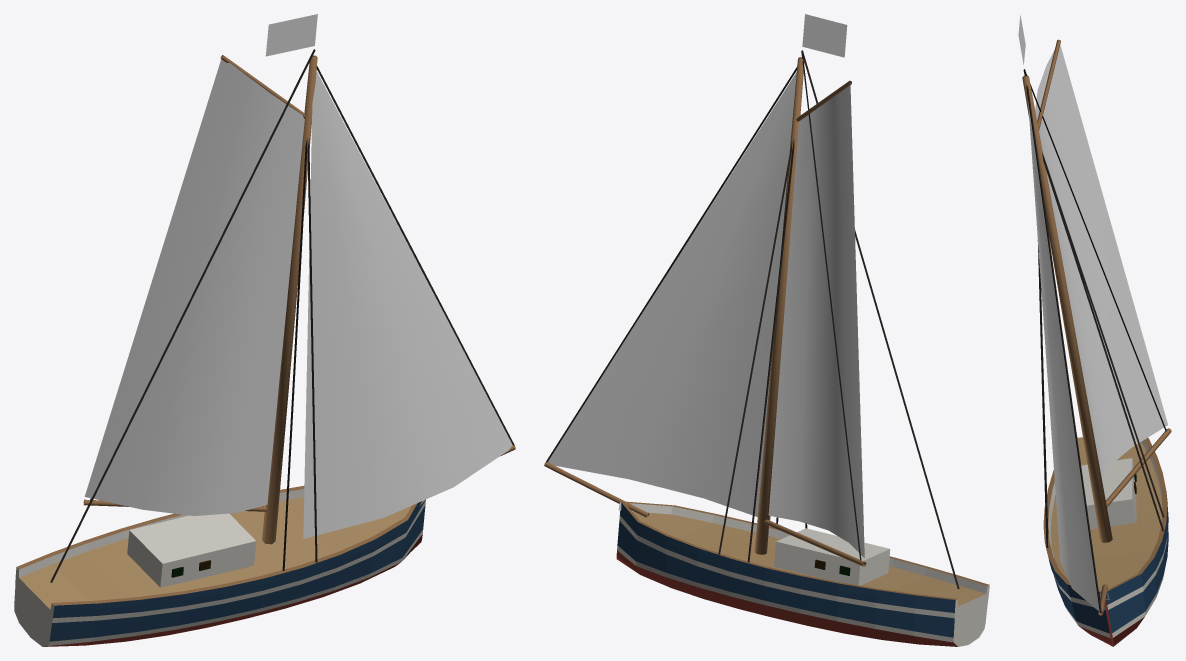
The model's file is hull_sloop_small_sailing.glb.
3 views of the same model, side by side, from view 1: azimuth 30°, elevation 25°; view 2: azimuth 150°, elevation 25°; view 3: azimuth 270°, elevation 25° (orthographic). The views are drawn at different scales.
Parts seen in each view (by area): view 1: hull_sloop_small_sailing_sail_main, hull_sloop_small_sailing_sail_jib, hull_sloop_small_sailing_hull, hull_sloop_small_sailing_deck, hull_sloop_small_sailing_mast, hull_sloop_small_sailing_rigging, hull_sloop_small_sailing_flag; view 2: hull_sloop_small_sailing_sail_jib, hull_sloop_small_sailing_sail_main, hull_sloop_small_sailing_hull, hull_sloop_small_sailing_rigging, hull_sloop_small_sailing_mast, hull_sloop_small_sailing_deck, hull_sloop_small_sailing_flag, hull_sloop_small_sailing_boom; view 3: hull_sloop_small_sailing_sail_main, hull_sloop_small_sailing_hull, hull_sloop_small_sailing_sail_jib, hull_sloop_small_sailing_mast, hull_sloop_small_sailing_rigging, hull_sloop_small_sailing_deck, hull_sloop_small_sailing_boom.
Boxes of the visible parts, left/top/right/bottom form: hull_sloop_small_sailing_sail_main: left=84, top=57, right=304, bottom=515; hull_sloop_small_sailing_sail_jib: left=303, top=71, right=512, bottom=538; hull_sloop_small_sailing_hull: left=14, top=486, right=425, bottom=646; hull_sloop_small_sailing_deck: left=127, top=513, right=256, bottom=587; hull_sloop_small_sailing_mast: left=220, top=55, right=515, bottom=544; hull_sloop_small_sailing_rigging: left=50, top=49, right=514, bottom=582; hull_sloop_small_sailing_flag: left=265, top=14, right=317, bottom=56; hull_sloop_small_sailing_sail_jib: left=548, top=72, right=796, bottom=520; hull_sloop_small_sailing_sail_main: left=768, top=83, right=864, bottom=557; hull_sloop_small_sailing_hull: left=616, top=501, right=989, bottom=646; hull_sloop_small_sailing_rigging: left=545, top=50, right=959, bottom=588; hull_sloop_small_sailing_mast: left=544, top=57, right=851, bottom=554; hull_sloop_small_sailing_deck: left=774, top=528, right=890, bottom=585; hull_sloop_small_sailing_flag: left=802, top=14, right=847, bottom=57; hull_sloop_small_sailing_boom: left=764, top=519, right=866, bottom=566; hull_sloop_small_sailing_sail_main: left=1035, top=45, right=1167, bottom=478; hull_sloop_small_sailing_hull: left=1043, top=436, right=1168, bottom=646; hull_sloop_small_sailing_sail_jib: left=1028, top=100, right=1099, bottom=611; hull_sloop_small_sailing_mast: left=1022, top=39, right=1112, bottom=615; hull_sloop_small_sailing_rigging: left=1023, top=69, right=1166, bottom=613; hull_sloop_small_sailing_deck: left=1081, top=458, right=1136, bottom=529; hull_sloop_small_sailing_boom: left=1106, top=428, right=1171, bottom=507.
Size of the model in its own units: 12.22 by 15.17 by 3.78.
